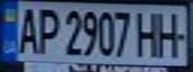0: (97, 8, 118, 57)
2: (60, 6, 84, 56)
7: (112, 8, 136, 57)
9: (78, 7, 100, 56)
A: (12, 4, 42, 54)
H: (151, 8, 190, 59), (133, 8, 163, 59)
P: (33, 4, 60, 55)
